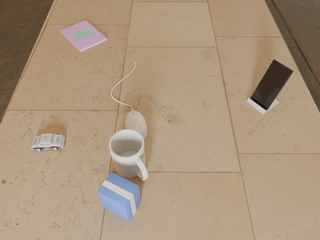book: (60, 20, 107, 52)
box: (97, 172, 141, 221)
cup: (109, 129, 148, 180)
mouse: (125, 111, 147, 140)
phone: (250, 59, 293, 110)
toy_car: (31, 134, 65, 151)
